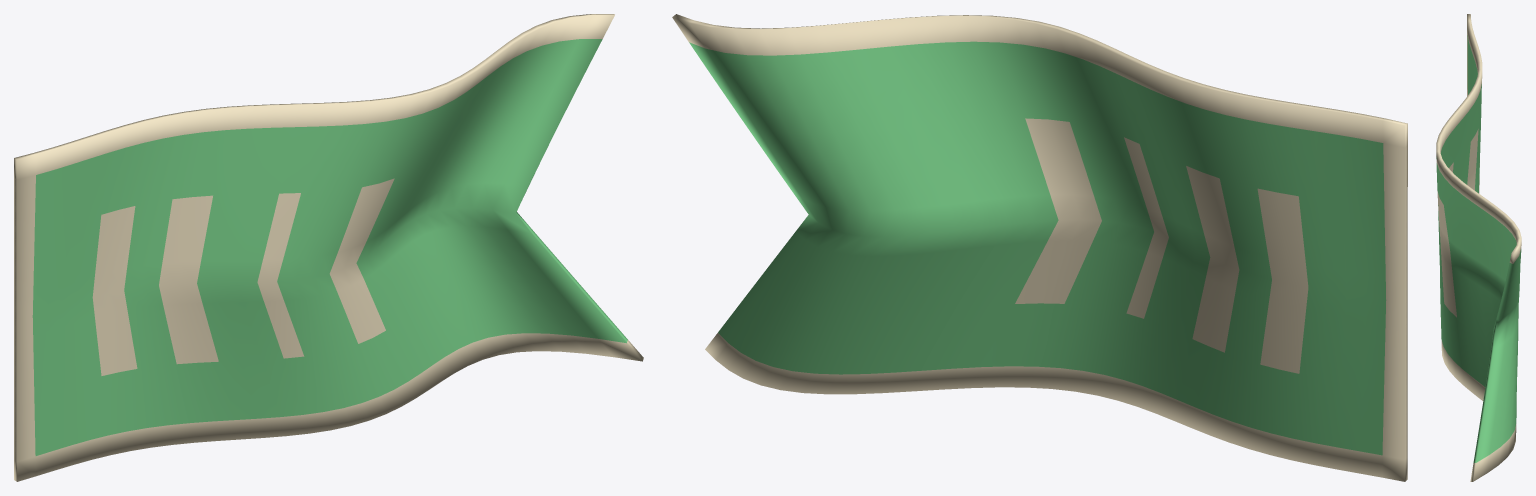
Rendered from flag-3.glb.
3 renders of one model, left to right at view 1: azimuth 30°, elevation 25°; view 2: azimuth 150°, elevation 25°; view 3: azimuth 270°, elevation 25°, orthographic. The views are drawn at different scales.
Visible parts, largest first — view 1: Captain standard; view 2: Captain standard; view 3: Captain standard.
Boxes of the visible parts, x1=… form: Captain standard: x1=14, y1=14, x2=643, y2=481; Captain standard: x1=672, y1=14, x2=1407, y2=481; Captain standard: x1=1436, y1=14, x2=1521, y2=481.
Bounding box in the file's own units: 1.6 × 0.8638 × 0.2662.
